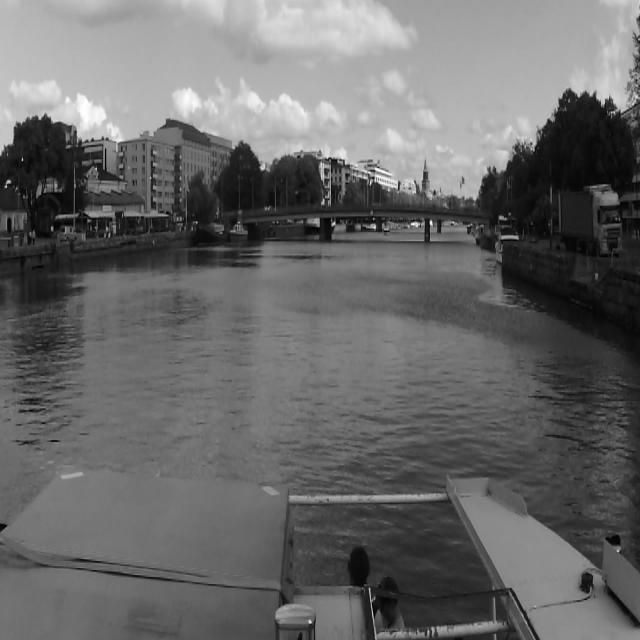ship: (199, 223, 227, 248), (230, 222, 248, 244)
